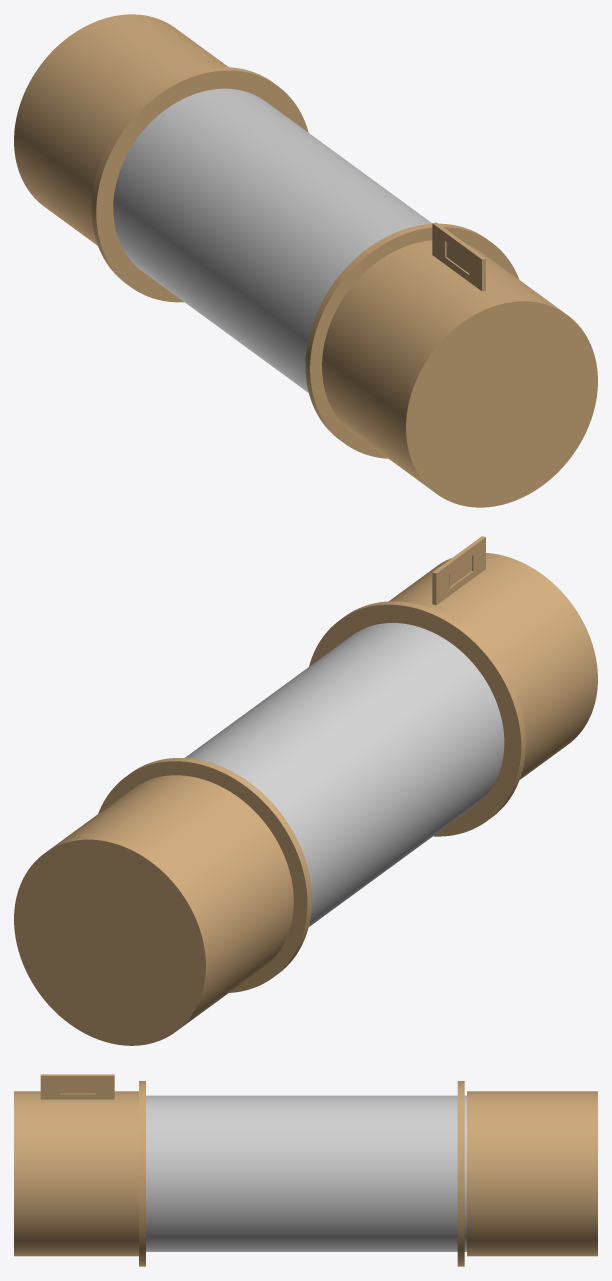
Rendered from fuze.fbx.
The picture shows the model from 3 angles, top to bottom: view 1: azimuth 30°, elevation 25°; view 2: azimuth 150°, elevation 25°; view 3: azimuth 270°, elevation 25°; orthographic projection. The views are drawn at different scales.
Parts seen in each view (by area): view 1: Cylinder.003, Cylinder, Cylinder.004, Cube; view 2: Cylinder.004, Cylinder, Cylinder.003, Cube; view 3: Cylinder, Cylinder.004, Cylinder.003, Cube.
Boxes of the visible parts, left/top/right/bottom form: Cylinder.003: left=305, top=223, right=597, bottom=507; Cylinder: left=113, top=88, right=432, bottom=392; Cylinder.004: left=14, top=14, right=308, bottom=302; Cube: left=432, top=222, right=485, bottom=291; Cylinder.004: left=14, top=758, right=311, bottom=1045; Cylinder: left=185, top=623, right=504, bottom=926; Cylinder.003: left=309, top=553, right=597, bottom=836; Cube: left=432, top=536, right=485, bottom=605; Cylinder: left=146, top=1095, right=466, bottom=1251; Cylinder.004: left=457, top=1081, right=597, bottom=1266; Cylinder.003: left=14, top=1081, right=145, bottom=1266; Cube: left=40, top=1074, right=114, bottom=1099.
Size of the model in its own units: 236 by 256 by 742.
